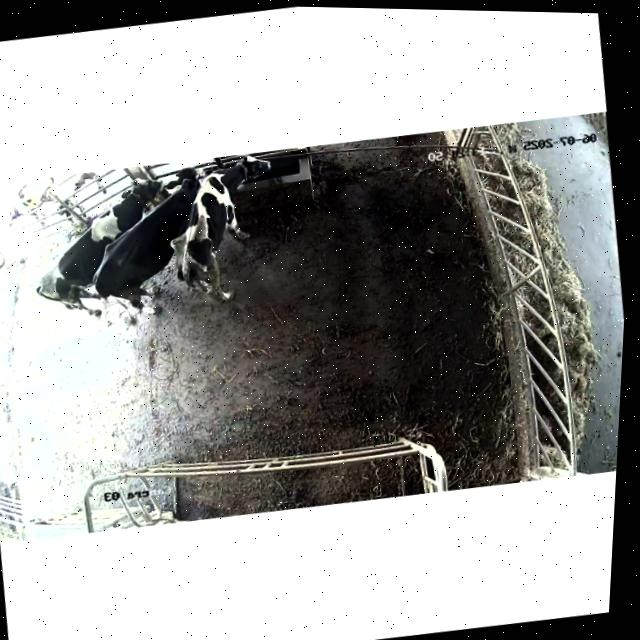drink: (208, 149, 289, 209)
stand: (36, 178, 163, 314), (93, 166, 200, 313)
